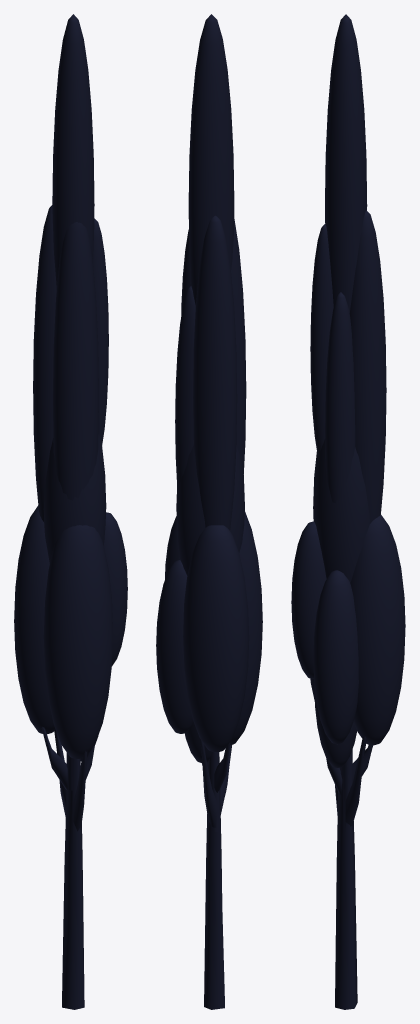
The model's file is tree2.dae.
3 views of the same model, side by side, from view 1: azimuth 90°, elevation 25°; view 2: azimuth 210°, elevation 25°; view 3: azimuth 270°, elevation 25° (orthographic).
Visible parts, largest first — view 1: Cylinder (×2); view 2: Cylinder (×2); view 3: Cylinder (×2).
Part boxes in pixels (x1,y1,x2,y2): Cylinder (×2): (14, 14, 127, 1009); Cylinder (×2): (156, 14, 262, 1009); Cylinder (×2): (291, 14, 405, 1009).
Bounding box in the file's own units: 12.35 × 124 × 12.92.
